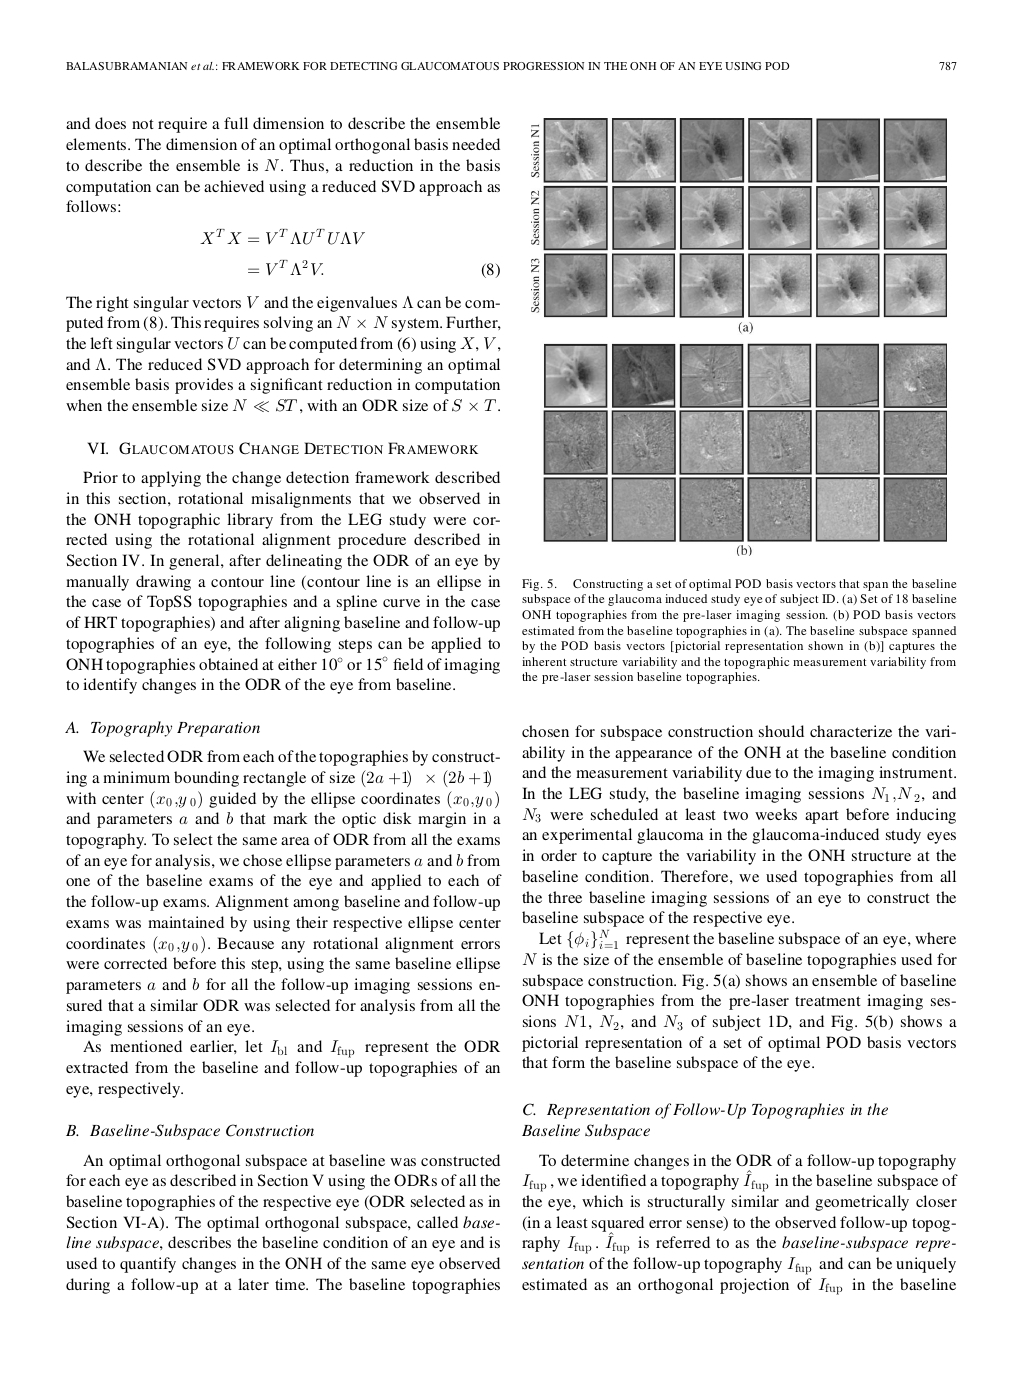figure: (543, 342, 946, 556), (531, 117, 946, 318)
formula: (248, 258, 499, 278), (200, 227, 364, 245)
